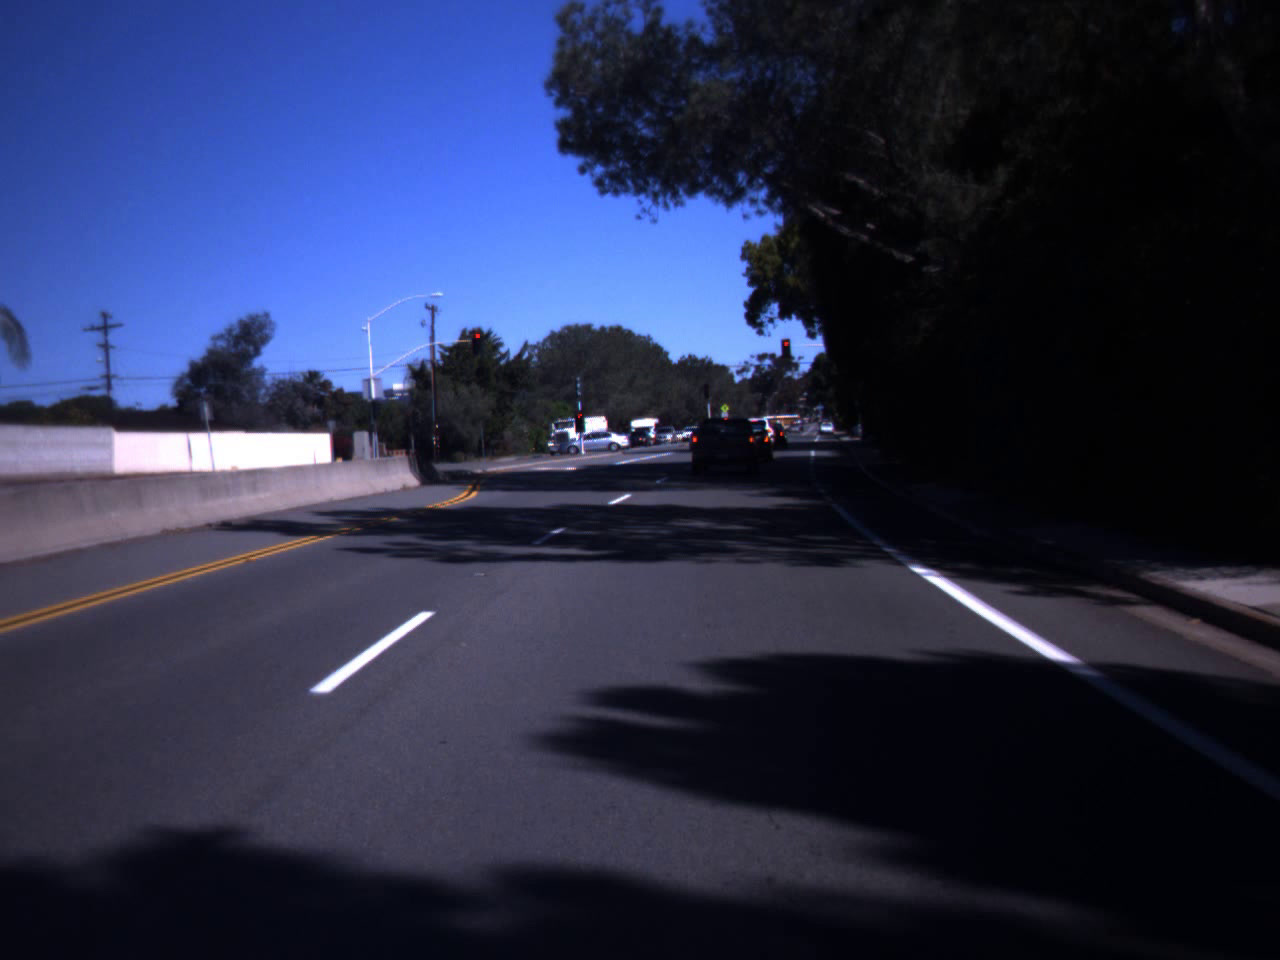stop: (472, 332, 484, 350), (780, 340, 792, 358), (574, 412, 586, 430)
